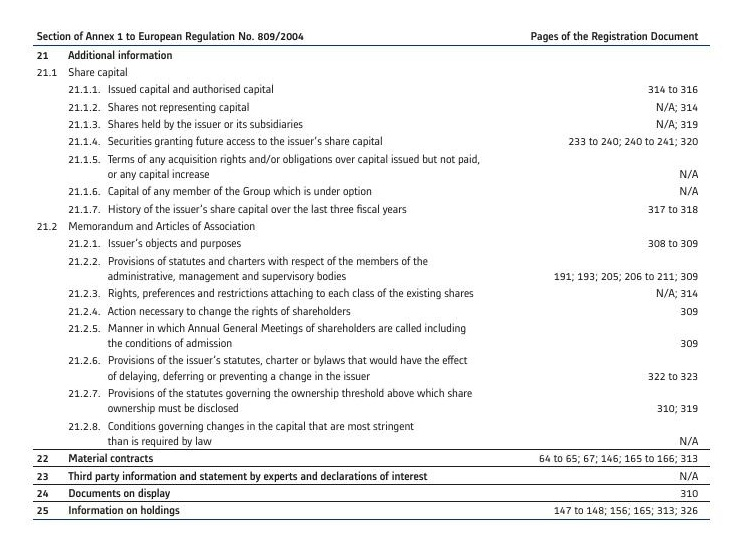table: (0, 0, 735, 549)
